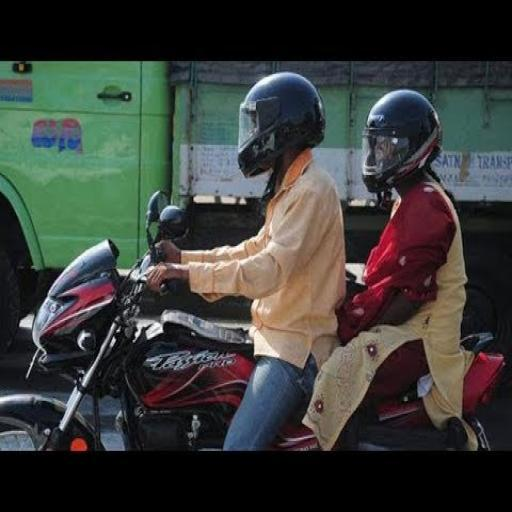helmet: (156, 37, 354, 502)
